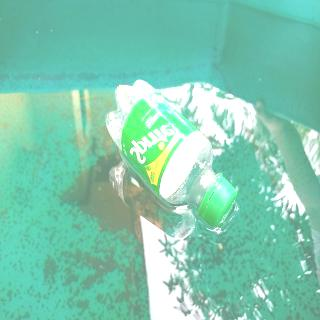bottle: (104, 77, 240, 232)
